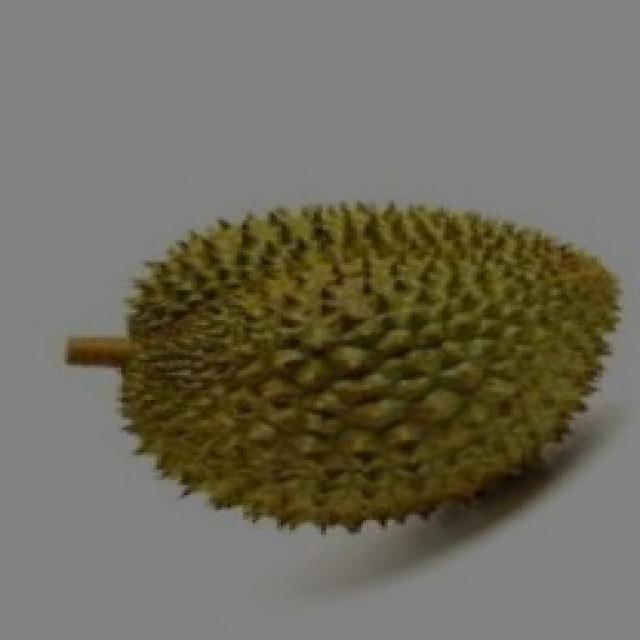fruit: (77, 180, 421, 590), (295, 185, 640, 587)
